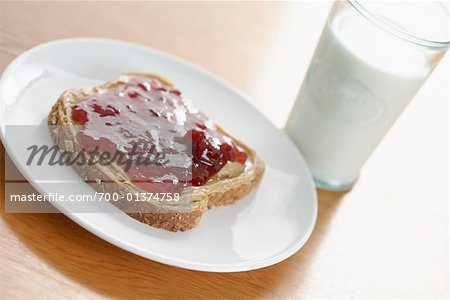glass of milk: (279, 1, 444, 203)
slice of bread: (47, 82, 271, 234)
